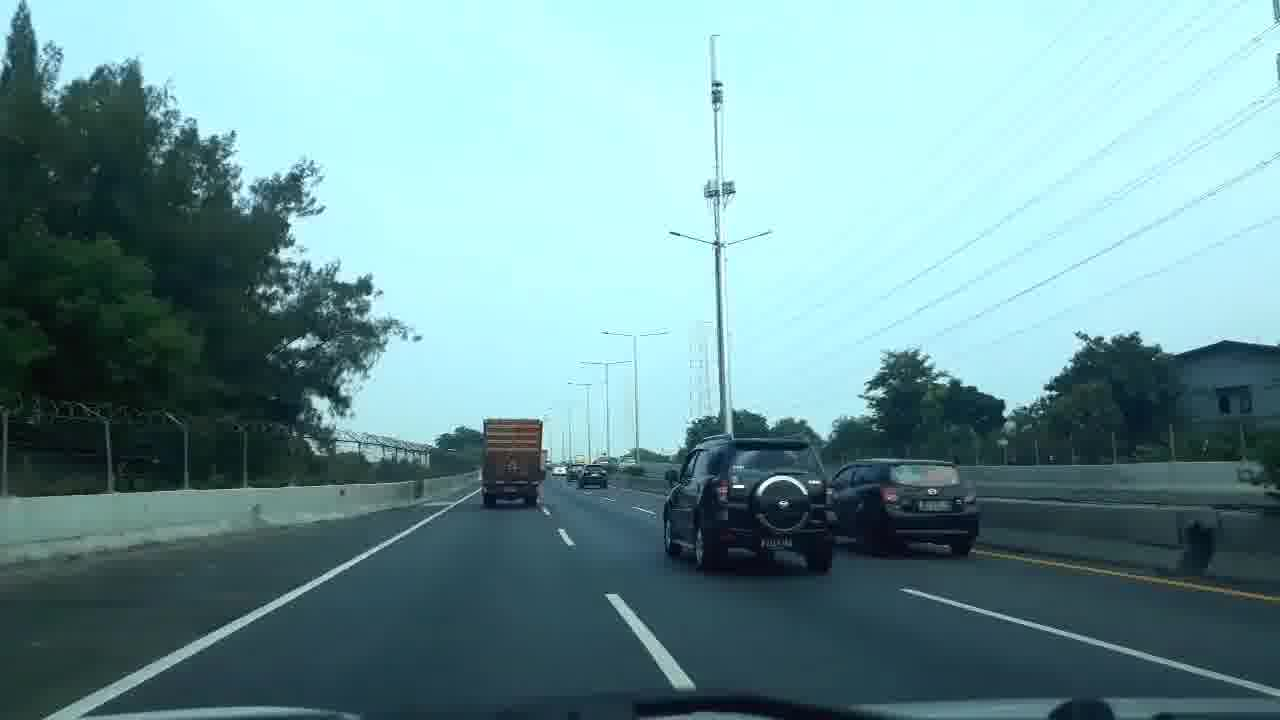plate_positive: (760, 536, 794, 551), (918, 499, 953, 513)
